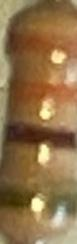Brown: (3, 121, 77, 151)
Orange: (5, 33, 77, 60), (8, 80, 77, 102)
Side-Gold: (1, 183, 76, 218)
